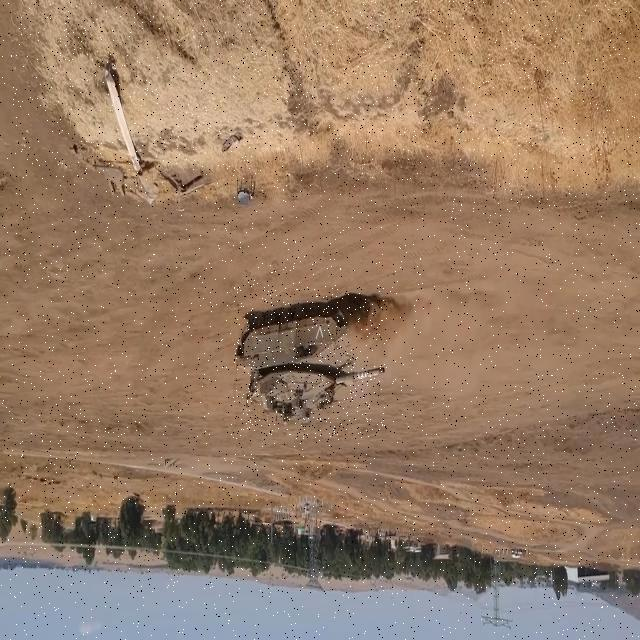MIL_MBT: (233, 286, 387, 439)
